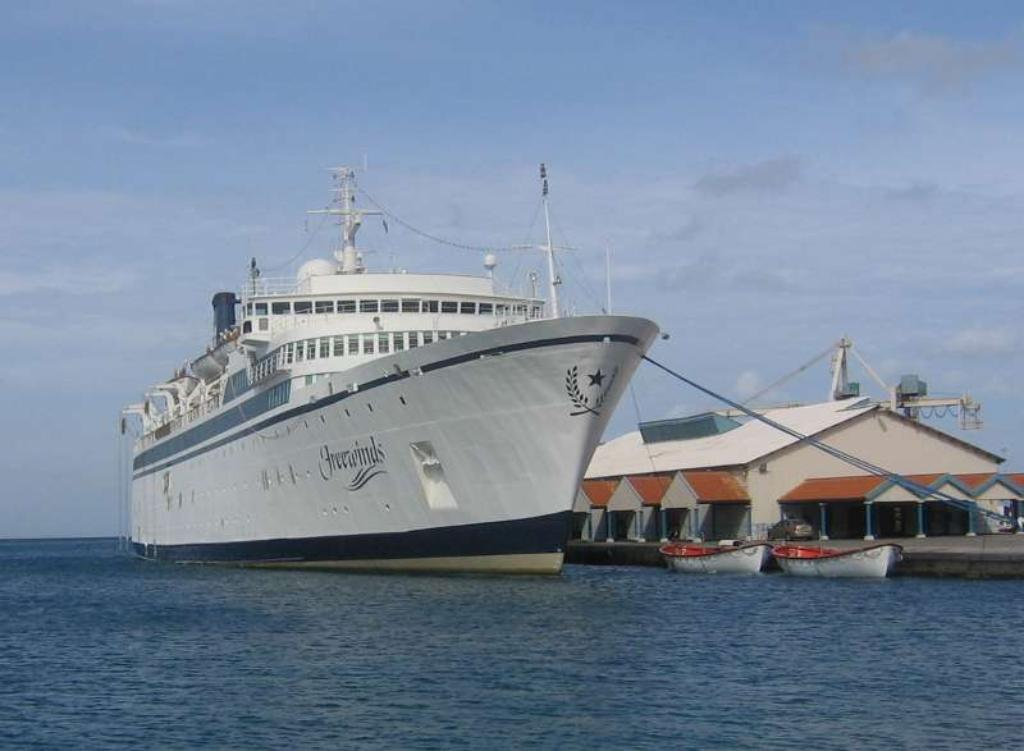PassengerShip: (107, 148, 663, 569)
